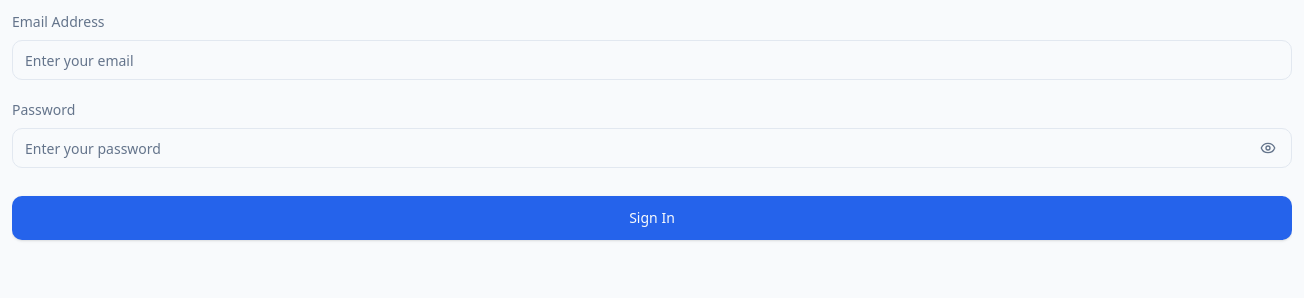
it: LoginForm › shows validation errors when fields are edited and invalid
The image size is (1304, 298).
Expected: the text "Please enter a valid email address" is not shown
Expected: the text "Password must be at least 6 characters" is not shown
// Type invalid email
Type "invalid-email" into the field with placeholder "Enter your email". click: (652, 60)
box: top-left (12, 40), bottom-right (1292, 80)
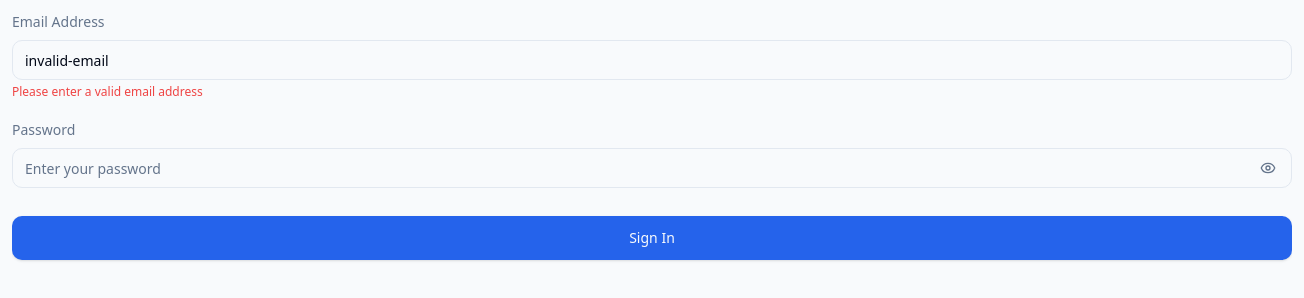
Expected: the text "Please enter a valid email address" is shown, top-left (12, 83), bottom-right (203, 100)
// Type short password
Type "123" into the password field with placeholder "Enter your password". click: (652, 168)
box: top-left (12, 148), bottom-right (1292, 188)
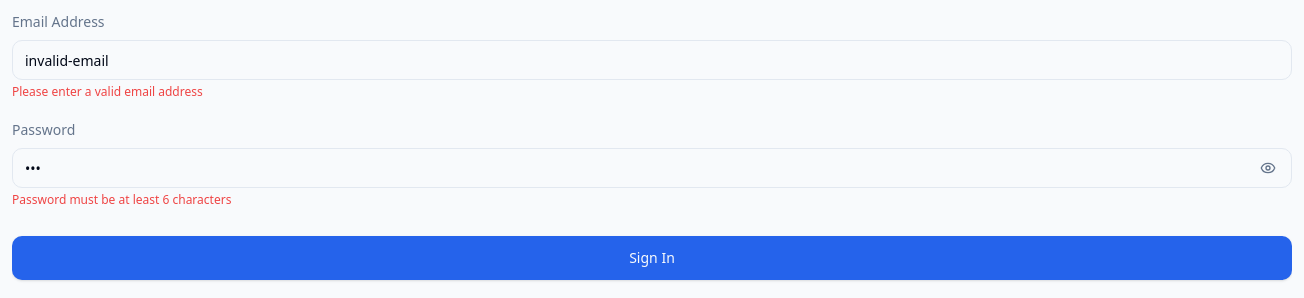
Expected: the text "Password must be at least 6 characters" is shown, top-left (12, 191), bottom-right (231, 208)
